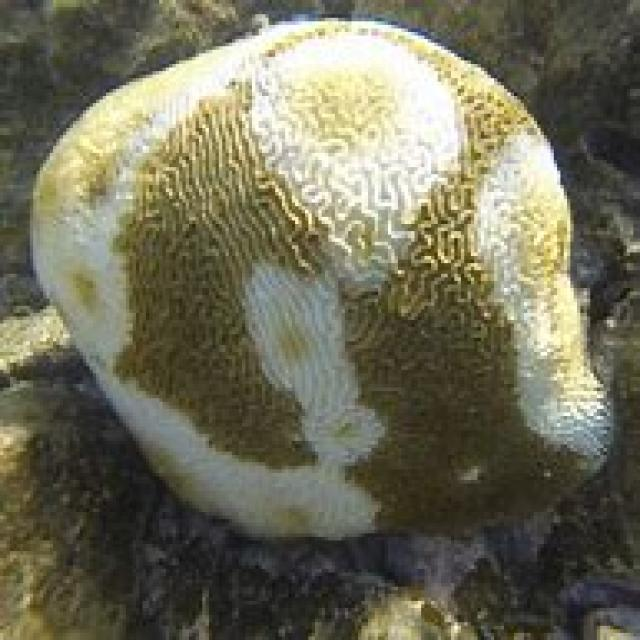Coral: (29, 18, 617, 541)
